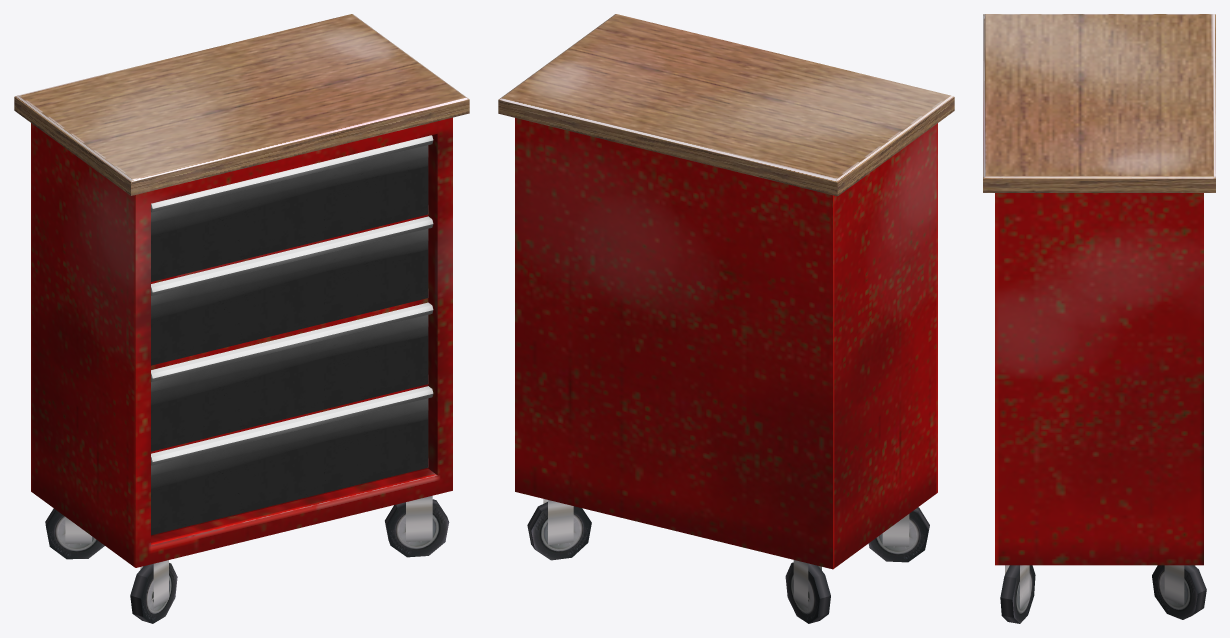
The model's file is Classic64_RollingToolChest_Model.fbx.
The picture shows the model from 3 angles, left to right: view 1: azimuth 30°, elevation 25°; view 2: azimuth 150°, elevation 25°; view 3: azimuth 270°, elevation 25°; orthographic projection.
Visible parts, largest first — view 1: Classic64_RollingToolChest_Part001, Classic64_RollingToolChest_Part002, Classic64_RollingToolChest_Part003, Classic64_RollingToolChest_Part000, Classic64_RollingToolChest_Part006, Classic64_RollingToolChest_Part004, Classic64_RollingToolChest_Part005; view 2: Classic64_RollingToolChest_Part002, Classic64_RollingToolChest_Part003, Classic64_RollingToolChest_Part007, Classic64_RollingToolChest_Part005, Classic64_RollingToolChest_Part004; view 3: Classic64_RollingToolChest_Part002, Classic64_RollingToolChest_Part003, Classic64_RollingToolChest_Part007, Classic64_RollingToolChest_Part006.
Boxes of the visible parts, x1,y1,x2,y2 form: Classic64_RollingToolChest_Part001: [151, 145, 428, 535]; Classic64_RollingToolChest_Part002: [31, 117, 452, 567]; Classic64_RollingToolChest_Part003: [14, 14, 469, 195]; Classic64_RollingToolChest_Part000: [151, 135, 433, 465]; Classic64_RollingToolChest_Part006: [385, 495, 449, 557]; Classic64_RollingToolChest_Part004: [130, 560, 177, 623]; Classic64_RollingToolChest_Part005: [45, 508, 104, 559]; Classic64_RollingToolChest_Part002: [515, 118, 937, 569]; Classic64_RollingToolChest_Part003: [498, 14, 954, 196]; Classic64_RollingToolChest_Part007: [527, 499, 591, 560]; Classic64_RollingToolChest_Part005: [785, 560, 830, 623]; Classic64_RollingToolChest_Part004: [868, 507, 929, 562]; Classic64_RollingToolChest_Part002: [995, 193, 1203, 565]; Classic64_RollingToolChest_Part003: [983, 14, 1215, 192]; Classic64_RollingToolChest_Part007: [1152, 565, 1206, 619]; Classic64_RollingToolChest_Part006: [1000, 565, 1035, 623].
Bounding box in the file's own units: 3.73 × 4.85 × 2.23.
1 material, 1 textured.
